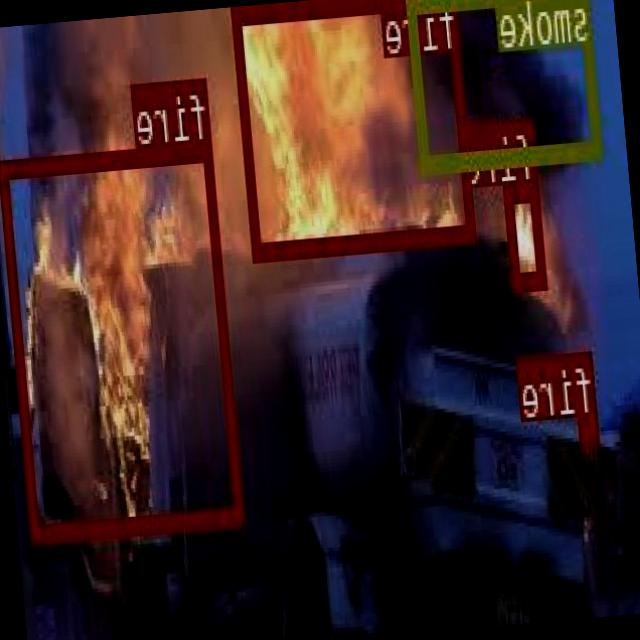fire: (0, 140, 246, 541), (233, 0, 478, 255), (504, 180, 547, 286), (579, 412, 600, 442)
smoke: (407, 0, 605, 171)
